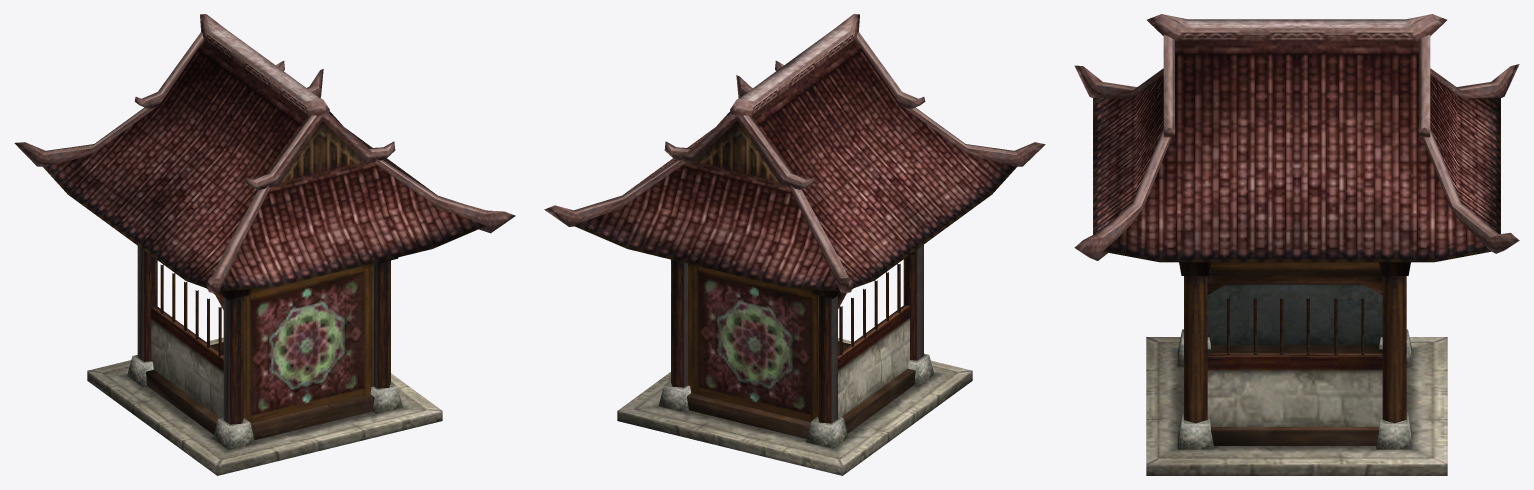
Rendered from a1-004-house2_lod_01.glb.
3 views of the same model, side by side, from view 1: azimuth 30°, elevation 25°; view 2: azimuth 150°, elevation 25°; view 3: azimuth 270°, elevation 25° (orthographic). The views are drawn at different scales.
Parts seen in each view (by area): view 1: a1-004-house2; view 2: a1-004-house2; view 3: a1-004-house2.
Part boxes in pixels (left/top/right/bottom): a1-004-house2: left=14, top=14, right=515, bottom=475; a1-004-house2: left=544, top=14, right=1045, bottom=475; a1-004-house2: left=1074, top=14, right=1519, bottom=475.
Size of the model in its own units: 5.14 by 5.45 by 5.53.
1 material, 1 textured.
